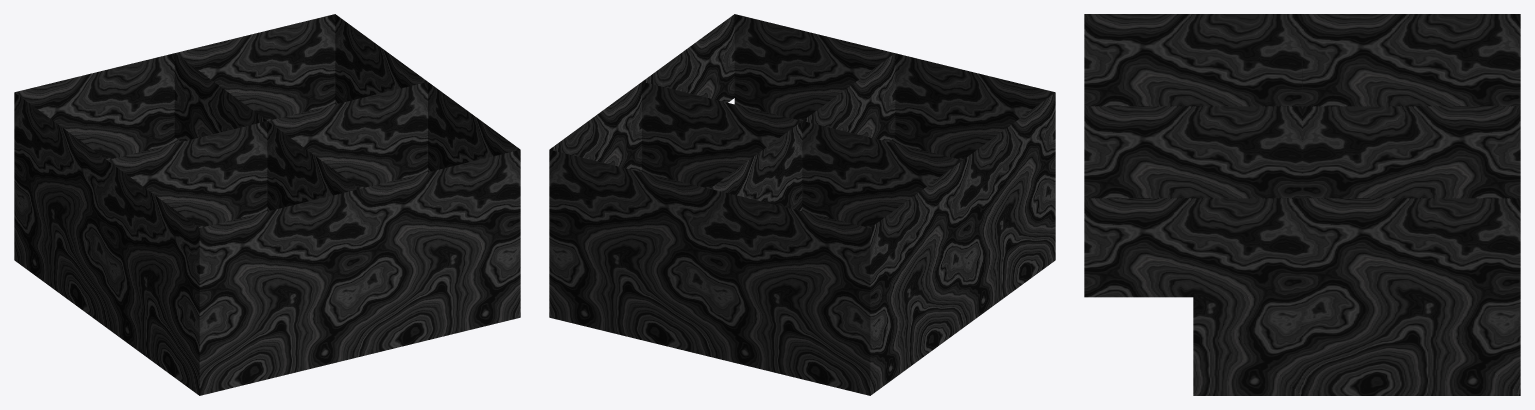
The model's file is walls.obj.
3 renders of one model, left to right at view 1: azimuth 30°, elevation 25°; view 2: azimuth 150°, elevation 25°; view 3: azimuth 270°, elevation 25°, orthographic. The views are drawn at different scales.
Parts seen in each view (by area): view 1: Plane.005_Plane.007, Plane_Plane.002, Plane.004_Plane.006, Plane.006_Plane.009, Plane.002_Plane.004, Plane.010_Plane.013, Plane.003_Plane.005, Plane.001_Plane.003, Plane.009_Plane.012, Plane.008_Plane.011, Plane.012_Plane.008, Plane.011_Plane.001; view 2: Plane.003_Plane.005, Plane.002_Plane.004, Plane.006_Plane.009, Plane.004_Plane.006, Plane_Plane.002, Plane.010_Plane.013, Plane.005_Plane.007, Plane.001_Plane.003, Plane.008_Plane.011, Plane.009_Plane.012, Plane.011_Plane.001, Plane.012_Plane.008; view 3: Plane.012_Plane.008, Plane.011_Plane.001, Plane.009_Plane.012, Plane.004_Plane.006, Plane.006_Plane.009, Plane.008_Plane.011.
Part boxes in pixels (left/top/right/bottom): Plane.005_Plane.007: left=199, top=189, right=360, bottom=395; Plane_Plane.002: left=360, top=149, right=520, bottom=356; Plane.004_Plane.006: left=14, top=92, right=106, bottom=327; Plane.006_Plane.009: left=107, top=160, right=199, bottom=395; Plane.002_Plane.004: left=174, top=14, right=335, bottom=143; Plane.010_Plane.013: left=107, top=121, right=267, bottom=227; Plane.003_Plane.005: left=15, top=53, right=174, bottom=159; Plane.001_Plane.003: left=268, top=82, right=427, bottom=188; Plane.009_Plane.012: left=174, top=53, right=266, bottom=141; Plane.008_Plane.011: left=267, top=121, right=359, bottom=211; Plane.012_Plane.008: left=335, top=14, right=427, bottom=104; Plane.011_Plane.001: left=428, top=82, right=519, bottom=172; Plane.003_Plane.005: left=709, top=189, right=870, bottom=395; Plane.002_Plane.004: left=549, top=149, right=709, bottom=356; Plane.006_Plane.009: left=963, top=92, right=1055, bottom=327; Plane.004_Plane.006: left=870, top=160, right=962, bottom=395; Plane_Plane.002: left=734, top=14, right=895, bottom=143; Plane.010_Plane.013: left=802, top=121, right=962, bottom=227; Plane.005_Plane.007: left=895, top=53, right=1054, bottom=159; Plane.001_Plane.003: left=642, top=82, right=801, bottom=188; Plane.008_Plane.011: left=803, top=53, right=895, bottom=141; Plane.009_Plane.012: left=710, top=121, right=802, bottom=211; Plane.011_Plane.001: left=642, top=14, right=734, bottom=102; Plane.012_Plane.008: left=550, top=82, right=641, bottom=172; Plane.012_Plane.008: left=1302, top=198, right=1520, bottom=395; Plane.011_Plane.001: left=1084, top=198, right=1302, bottom=395; Plane.009_Plane.012: left=1302, top=106, right=1520, bottom=198; Plane.004_Plane.006: left=1302, top=14, right=1520, bottom=106; Plane.006_Plane.009: left=1084, top=14, right=1302, bottom=106; Plane.008_Plane.011: left=1084, top=106, right=1302, bottom=198.
Bounding box in the file's own units: 10 × 5 × 10.
